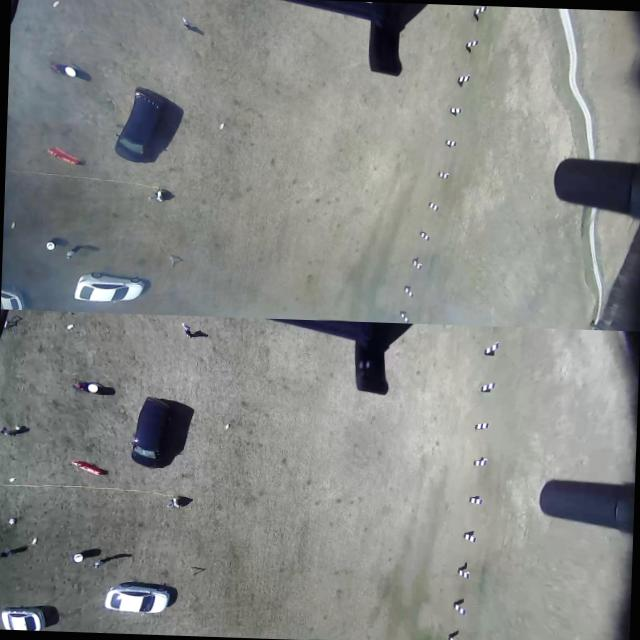car: (120, 86, 168, 170), (98, 575, 176, 621), (70, 268, 150, 309), (0, 603, 57, 631)
